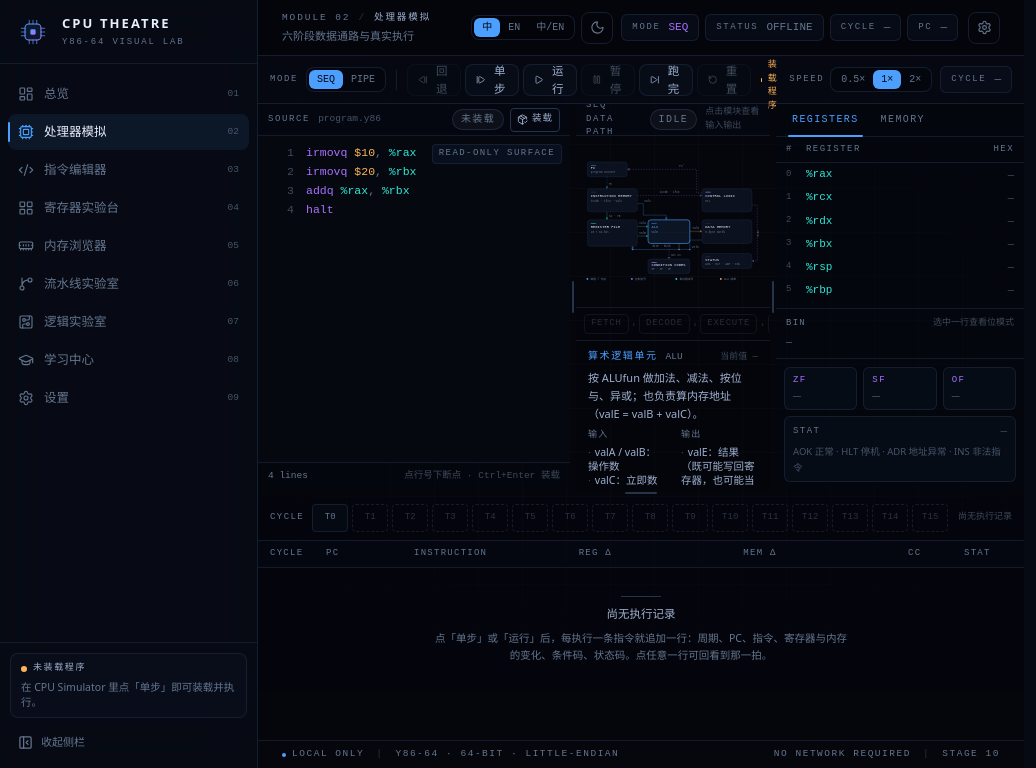
CPU 舞台与观察器 › 切到内存页显示空态说明，而不是一屏 00
Step 1. Click the tab "Memory" → (903, 120), box 871,104 -> 935,136
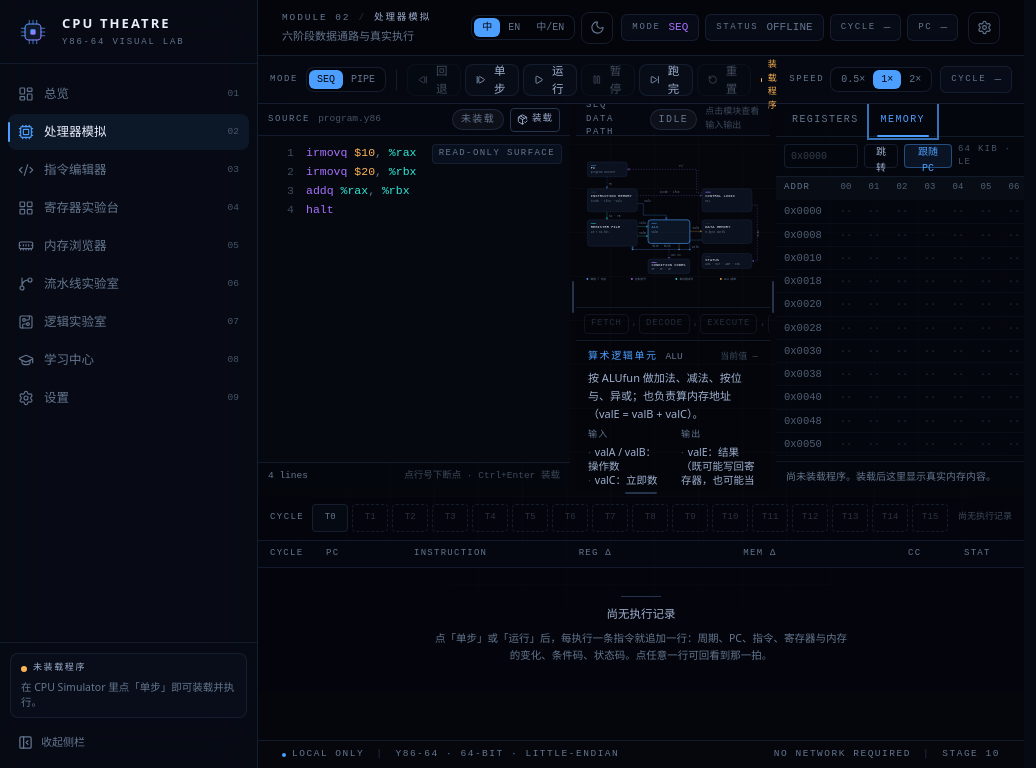
Expected: the panel named "内存" does not show "00 00 00", 776,136 -> 1024,490
Now the text "尚未装载程序。装载后这里显示真实内存内容。" is shown, box 776,461 -> 1024,490
